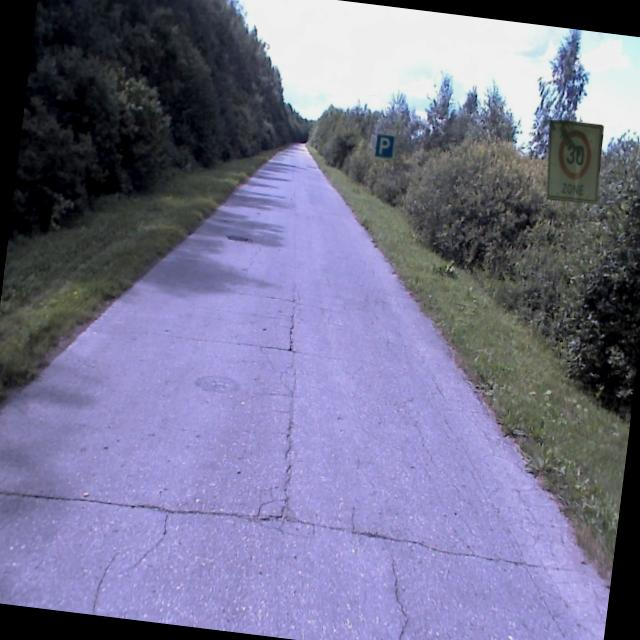road: (0, 142, 609, 640)
